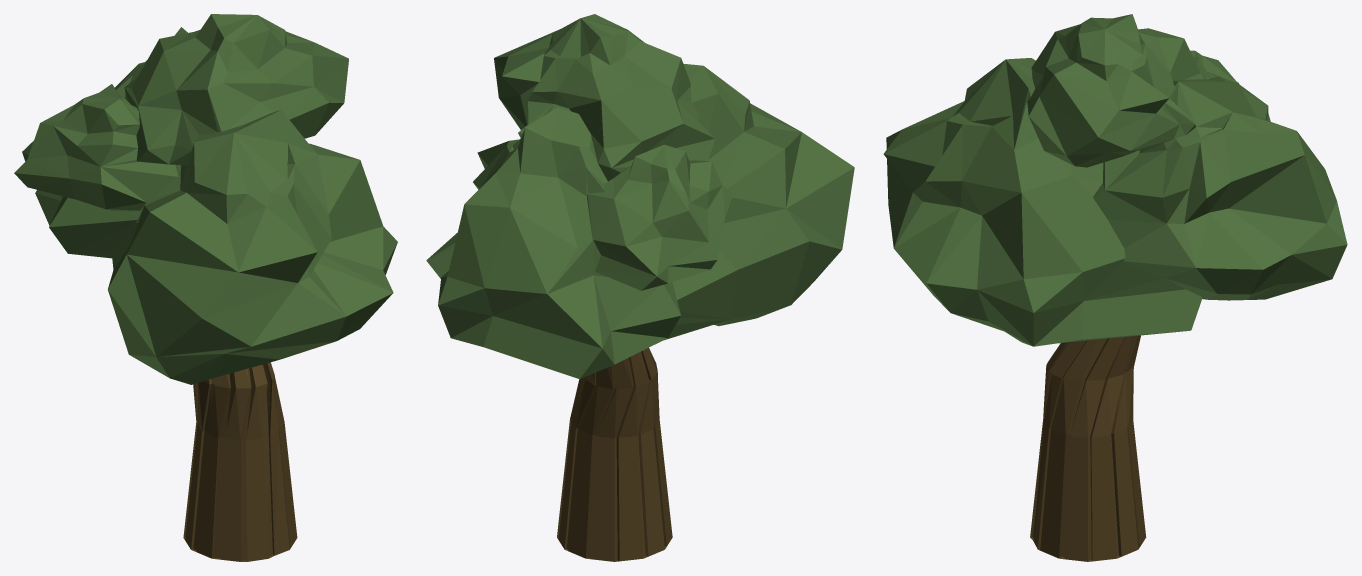
File: tree test.fbx
3 renders of one model, left to right at view 1: azimuth 30°, elevation 25°; view 2: azimuth 150°, elevation 25°; view 3: azimuth 270°, elevation 25°, orthographic.
Visible parts, largest first — view 1: polySurface6; view 2: polySurface6; view 3: polySurface6.
Boxes of the visible parts, left/top/right/bottom form: polySurface6: left=14, top=14, right=397, bottom=561; polySurface6: left=426, top=14, right=854, bottom=561; polySurface6: left=883, top=14, right=1347, bottom=561.
Size of the model in its own units: 5.97 by 9.9 by 7.99.
